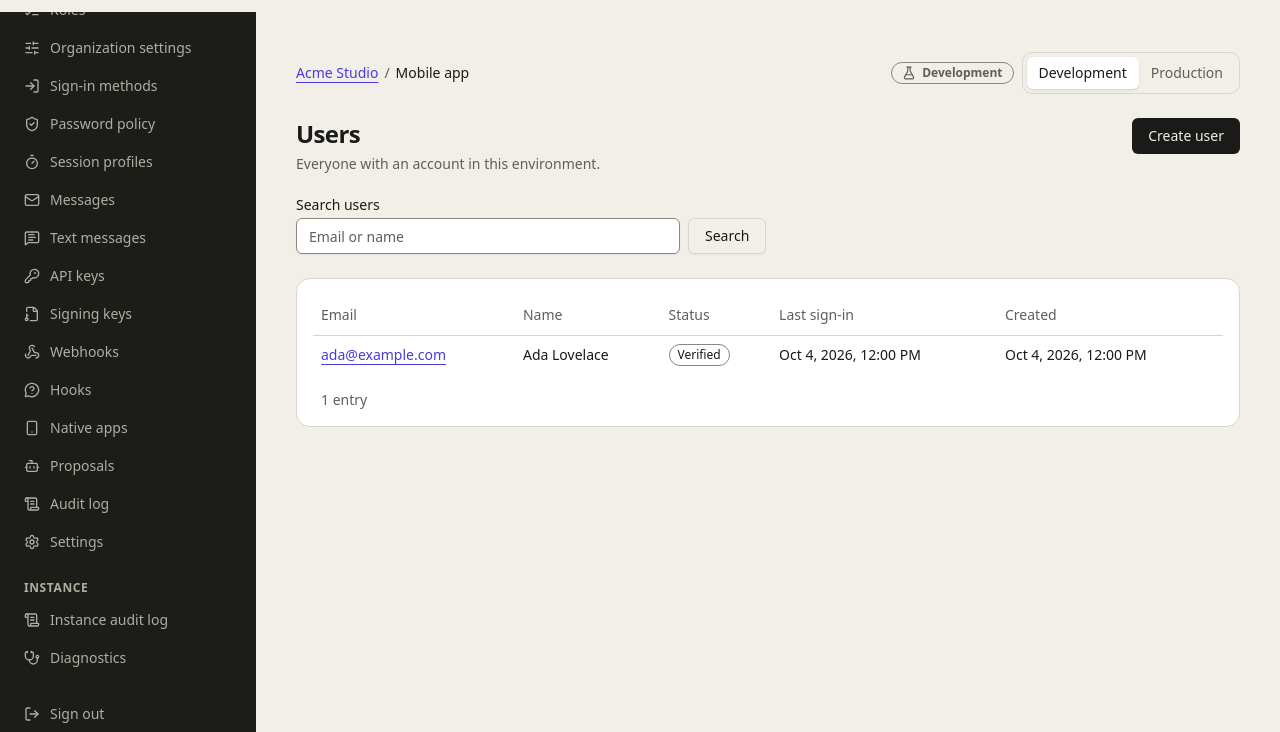
Scenario: the list › the navigation leads to it; with nothing waiting it says so, and that nothing is dismissed
(page scrolled)
Expected: the heading "Users" is shown, top-left (296, 117), bottom-right (360, 150)
Click the link "Proposals" at (69, 466), box top-left (24, 456), bottom-right (114, 475)
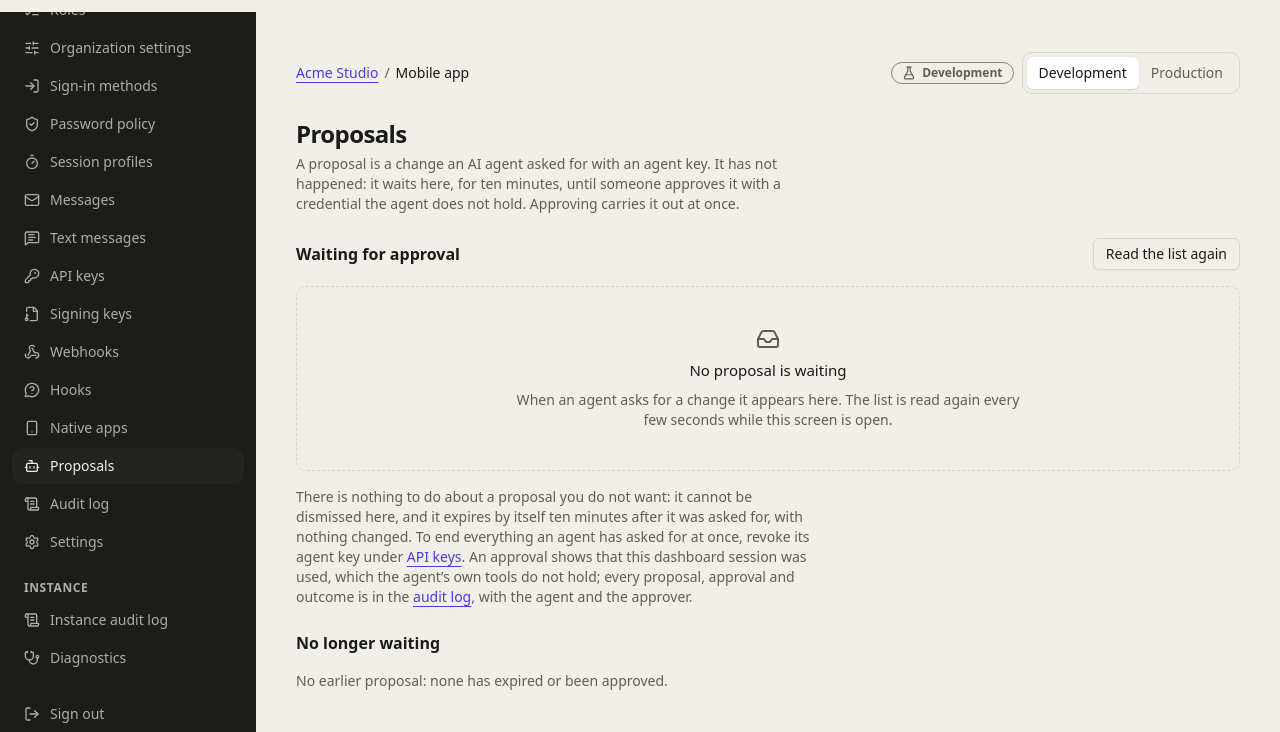
Now the heading "Proposals" is shown, box top-left (296, 117), bottom-right (407, 150)
Now the text "No proposal is waiting" is shown, box top-left (690, 359), bottom-right (847, 382)
Now the text "No earlier proposal: none has expired or been approved." is shown, box top-left (296, 670), bottom-right (668, 690)
